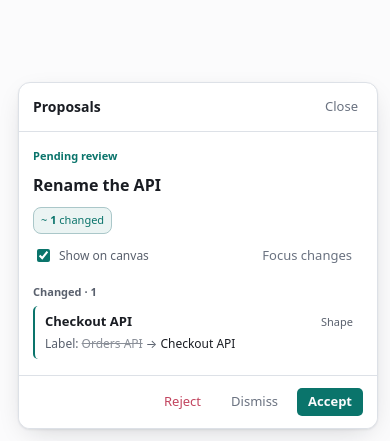
ProposalPanel accept › asks for a retry while a gesture is in progress, before the proposal is moved on
This screenshot has width=390, height=441.
Click the button "Accept".
click(330, 402)  # box [297, 388, 363, 416]
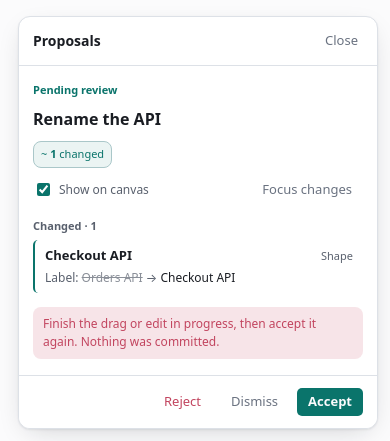
Result: the message shows "Finish the drag or edit in progress" at [43, 315, 316, 350]
